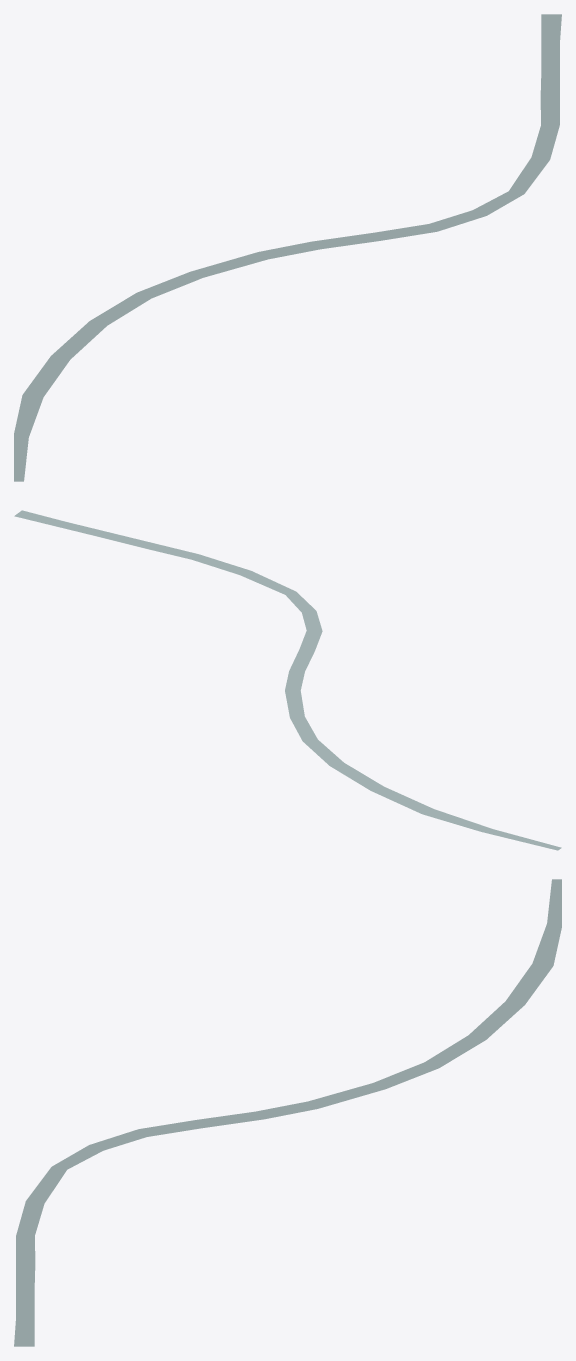
3 renders of one model, top to bottom at view 1: azimuth 90°, elevation 25°; view 2: azimuth 150°, elevation 25°; view 3: azimuth 270°, elevation 25°, orthographic. The views are drawn at different scales.
Parts seen in each view (by area): view 1: Joint_0_Object_0; view 2: Joint_0_Object_0; view 3: Joint_0_Object_0.
Part boxes in pixels (x1,y1,x2,y2): Joint_0_Object_0: (14, 14, 561, 481); Joint_0_Object_0: (14, 510, 561, 850); Joint_0_Object_0: (14, 879, 561, 1346).
Size of the model in its own units: 10000 by 0.5227 by 4953.
1 material, 1 textured.
